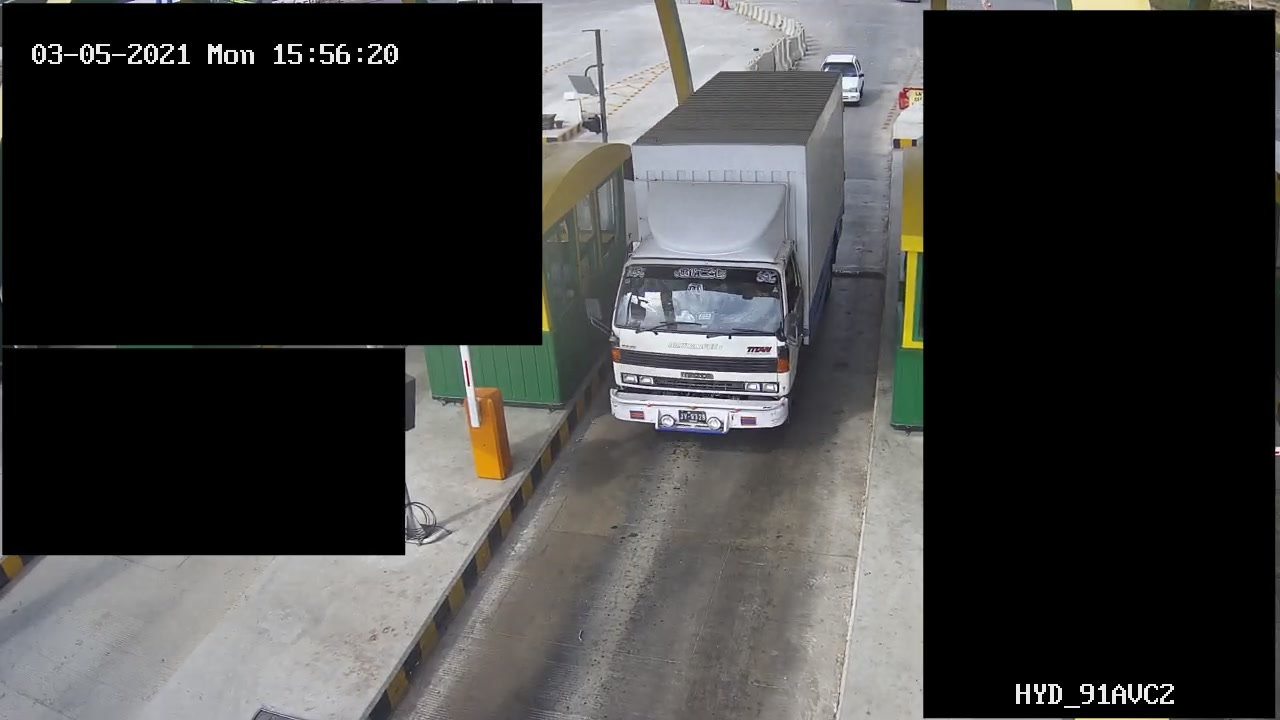F5: (598, 66, 854, 445)
